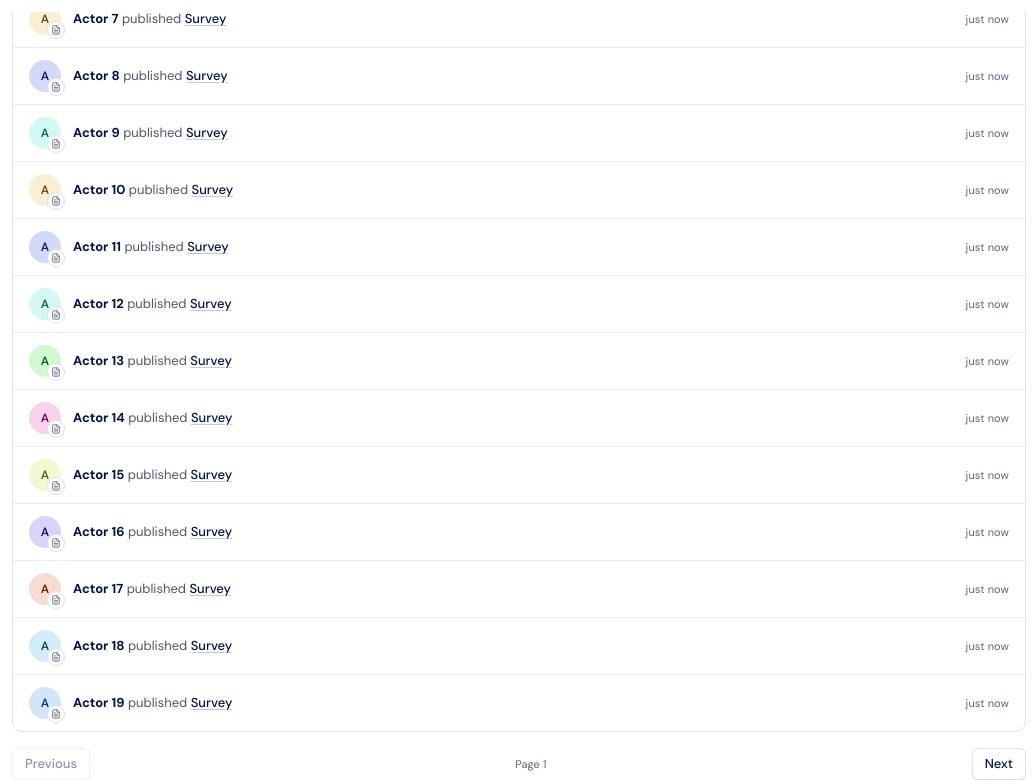
Test: WorkspaceActivityPage › offers Next only after a full page, and pages forward and back
Expected: the button "Previous" is disabled, [12,748,90,779]
Click the button "Next". click: click(999, 764)
box: [972,748,1026,779]
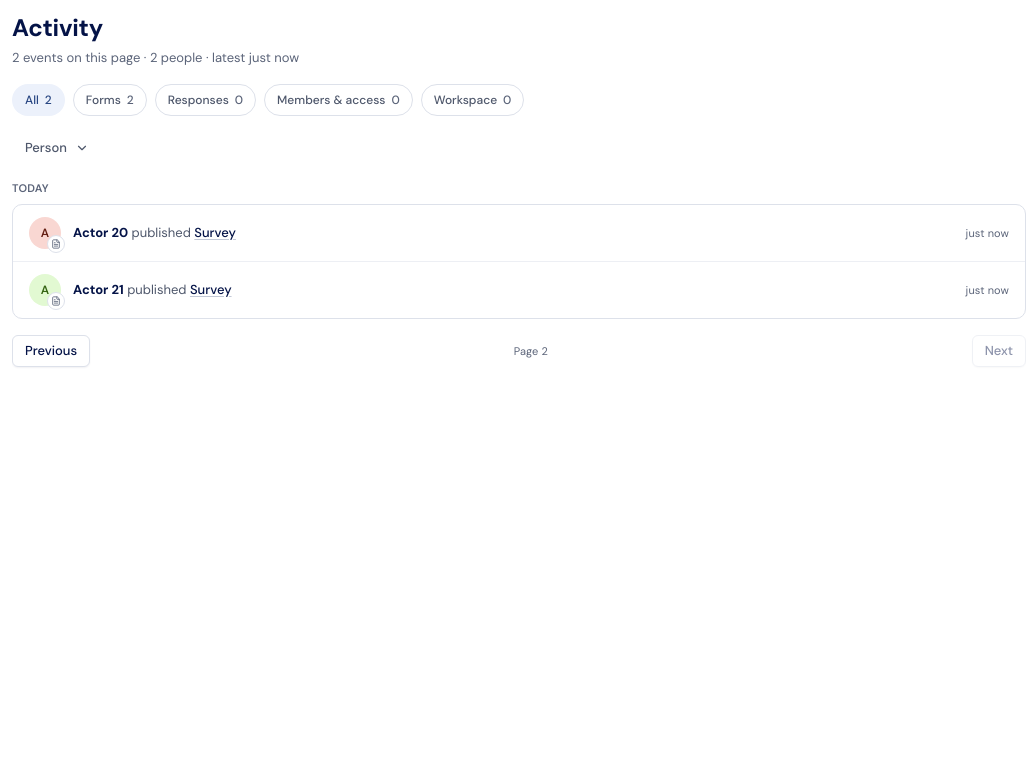
Expected: the text "Actor 20" is shown, [73,224,128,241]
Expected: the button "Next" is disabled, [972,335,1026,367]
Click the button "Previous". click: click(51, 351)
box: [12,335,90,367]
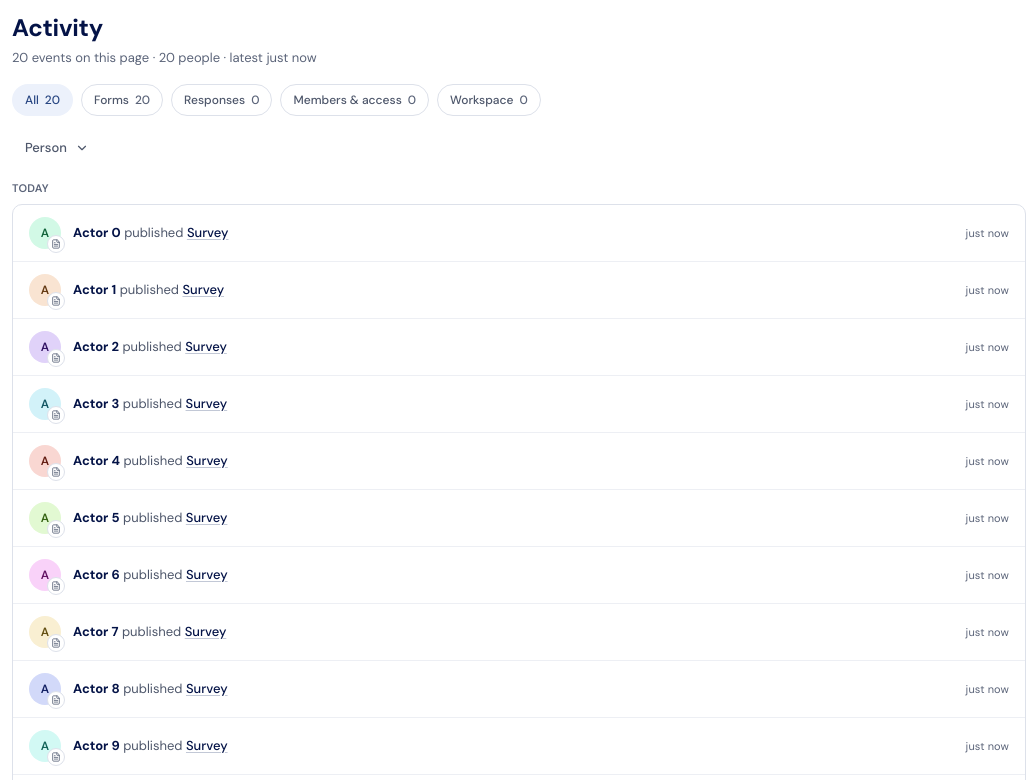
Expected: the text "Actor 0" is shown, [73,224,121,241]
